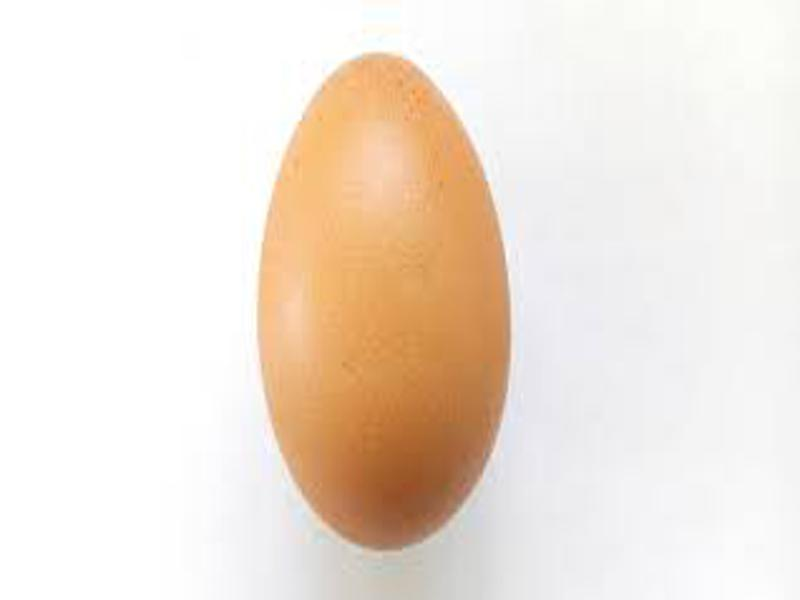Eggs: (259, 53, 511, 547)
